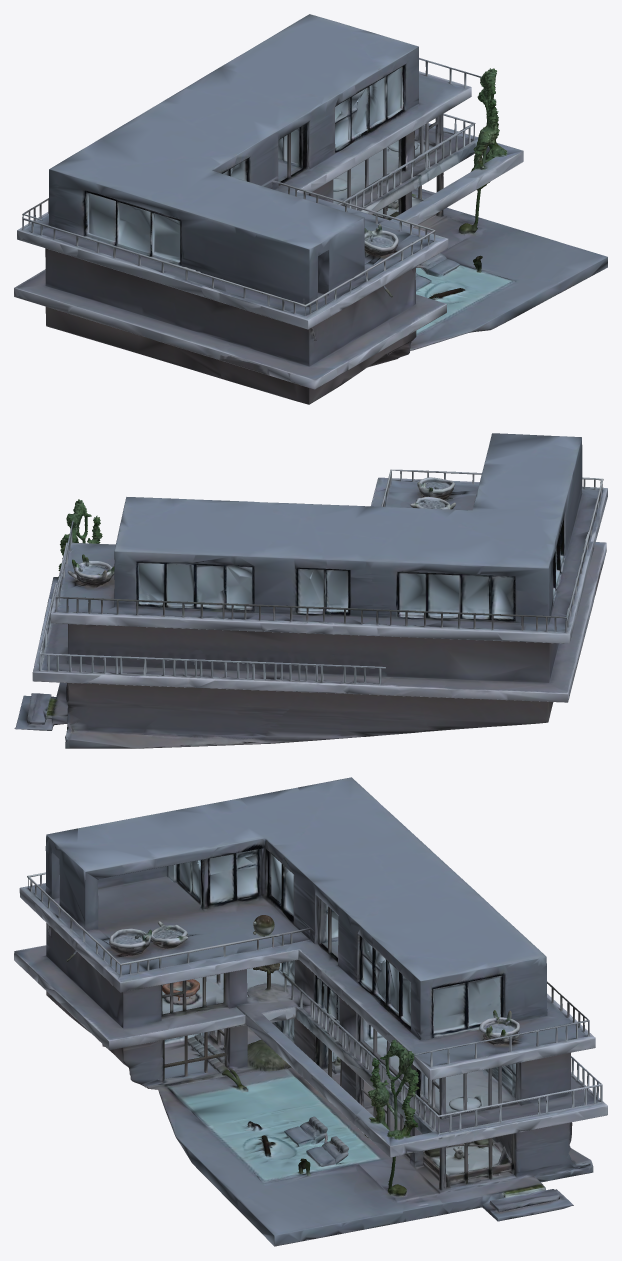
The model's file is villa.glb.
3 renders of one model, top to bottom at view 1: azimuth 30°, elevation 25°; view 2: azimuth 150°, elevation 25°; view 3: azimuth 270°, elevation 25°, orthographic. The views are drawn at different scales.
Visible parts, largest first — view 1: tripo_node_dec118bd-68dd-4f48-8545-63e64c1a7e45; view 2: tripo_node_dec118bd-68dd-4f48-8545-63e64c1a7e45; view 3: tripo_node_dec118bd-68dd-4f48-8545-63e64c1a7e45.
Boxes of the visible parts, x1=… form: tripo_node_dec118bd-68dd-4f48-8545-63e64c1a7e45: x1=14, y1=14, x2=607, y2=404; tripo_node_dec118bd-68dd-4f48-8545-63e64c1a7e45: x1=14, y1=433, x2=607, y2=748; tripo_node_dec118bd-68dd-4f48-8545-63e64c1a7e45: x1=14, y1=777, x2=607, y2=1246.
Bounding box in the file's own units: 1.06 × 0.3671 × 0.9596.
1 material, 1 textured.
